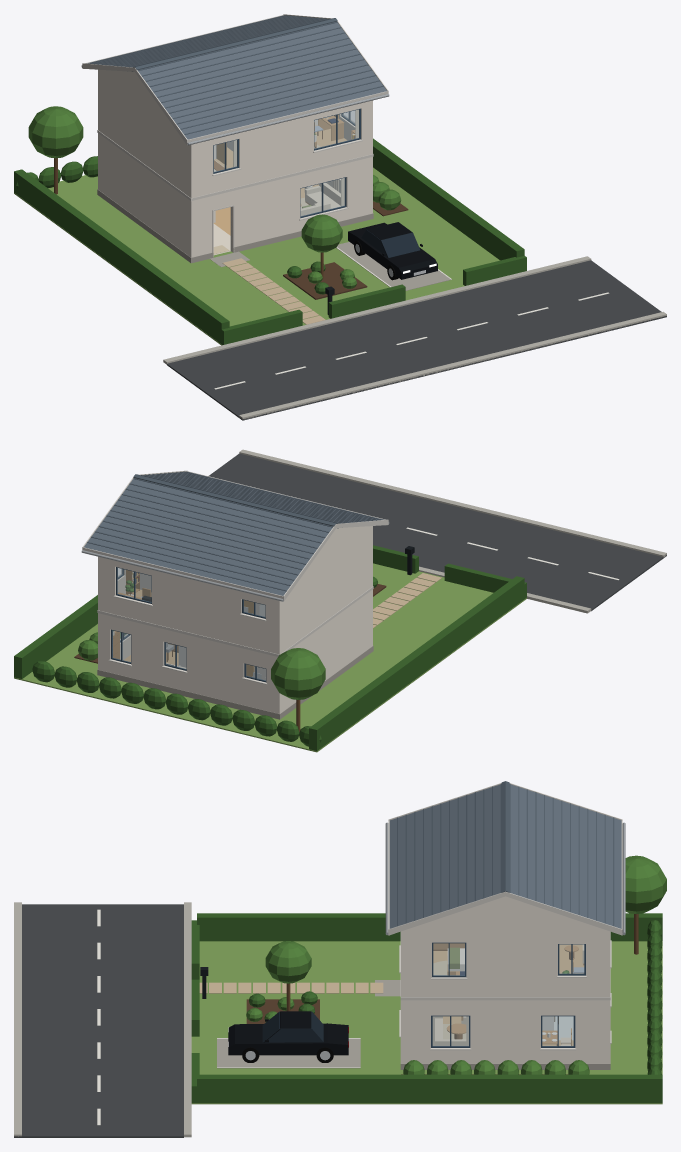
File: hades-house_v3_2.glb
The picture shows the model from 3 angles, top to bottom: view 1: azimuth 30°, elevation 25°; view 2: azimuth 150°, elevation 25°; view 3: azimuth 270°, elevation 25°; orthographic projection. The views are drawn at different scales.
Visible parts, largest first — view 1: road, ground, outer_wall_S, roof_S, boundary_hedge, outer_wall_W, roof_courses, front_yard, eaves, back_yard, black_car_01, roof_N (+10 smaller); view 2: road, outer_wall_N, roof_N, ground, boundary_hedge, outer_wall_W, roof_courses, back_yard, eaves, roof_S, plinth, front_yard (+6 smaller); view 3: road, outer_wall_E, ground, boundary_hedge, roof_N, roof_S, front_yard, roof_courses, black_car_01, back_yard, eaves, gable_E (+12 smaller).
Part boxes in pixels (bbox=[...]): road: bbox=[163, 256, 666, 420]; ground: bbox=[14, 167, 499, 345]; outer_wall_S: bbox=[189, 100, 372, 257]; roof_S: bbox=[138, 22, 386, 139]; boundary_hedge: bbox=[14, 138, 526, 344]; outer_wall_W: bbox=[100, 70, 188, 255]; roof_courses: bbox=[89, 15, 383, 134]; front_yard: bbox=[210, 214, 367, 324]; eaves: bbox=[81, 14, 389, 145]; back_yard: bbox=[16, 106, 97, 194]; black_car_01: bbox=[348, 222, 437, 280]; roof_N: bbox=[86, 15, 326, 71]; road: bbox=[208, 449, 666, 613]; outer_wall_N: bbox=[98, 556, 281, 713]; roof_N: bbox=[84, 479, 332, 595]; ground: bbox=[14, 563, 526, 752]; boundary_hedge: bbox=[14, 545, 526, 750]; outer_wall_W: bbox=[282, 526, 370, 711]; roof_courses: bbox=[87, 471, 381, 591]; back_yard: bbox=[32, 648, 325, 746]; eaves: bbox=[81, 470, 389, 601]; roof_S: bbox=[143, 471, 384, 528]; plinth: bbox=[97, 645, 373, 719]; front_yard: bbox=[373, 573, 441, 628]; road: bbox=[14, 902, 191, 1137]; outer_wall_E: bbox=[406, 925, 604, 1063]; ground: bbox=[191, 941, 662, 1104]; boundary_hedge: bbox=[191, 913, 662, 1102]; roof_N: bbox=[510, 784, 621, 928]; roof_S: bbox=[389, 784, 500, 928]; front_yard: bbox=[199, 941, 400, 1023]; roof_courses: bbox=[397, 783, 614, 926]; black_car_01: bbox=[228, 1011, 348, 1062]; back_yard: bbox=[625, 855, 666, 1074]; eaves: bbox=[385, 781, 625, 935]; gable_E: bbox=[419, 896, 591, 925].
Bounding box in the file's own units: 21 × 8.06 × 24.97.
